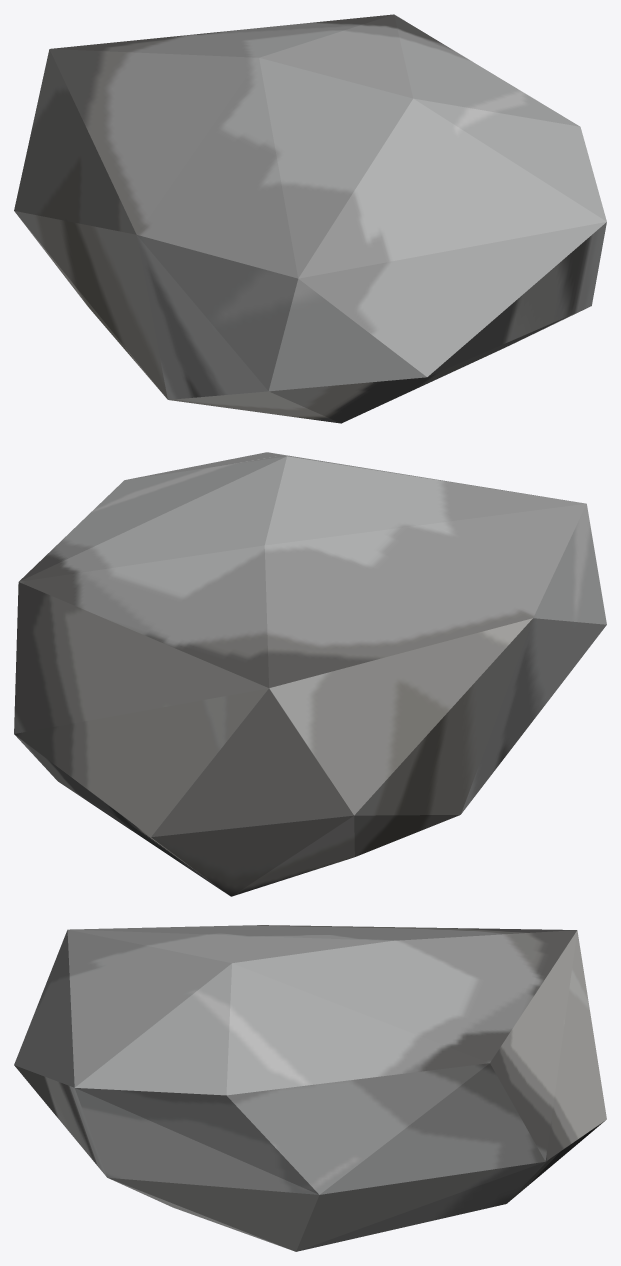
The model's file is rock.fbx.
3 renders of one model, top to bottom at view 1: azimuth 30°, elevation 25°; view 2: azimuth 150°, elevation 25°; view 3: azimuth 270°, elevation 25°, orthographic. The views are drawn at different scales.
Parts seen in each view (by area): view 1: Cube; view 2: Cube; view 3: Cube.
Boxes of the visible parts, <box> form: Cube: <box>14,14,606,423</box>; Cube: <box>14,452,606,896</box>; Cube: <box>14,925,606,1251</box>.
Size of the model in its own units: 145 by 99.33 by 191.
1 material, 1 textured.
